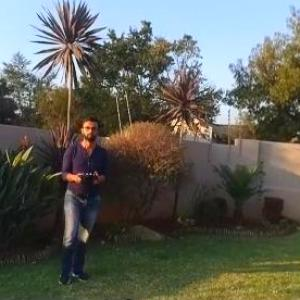follow: (50, 110, 113, 292)
